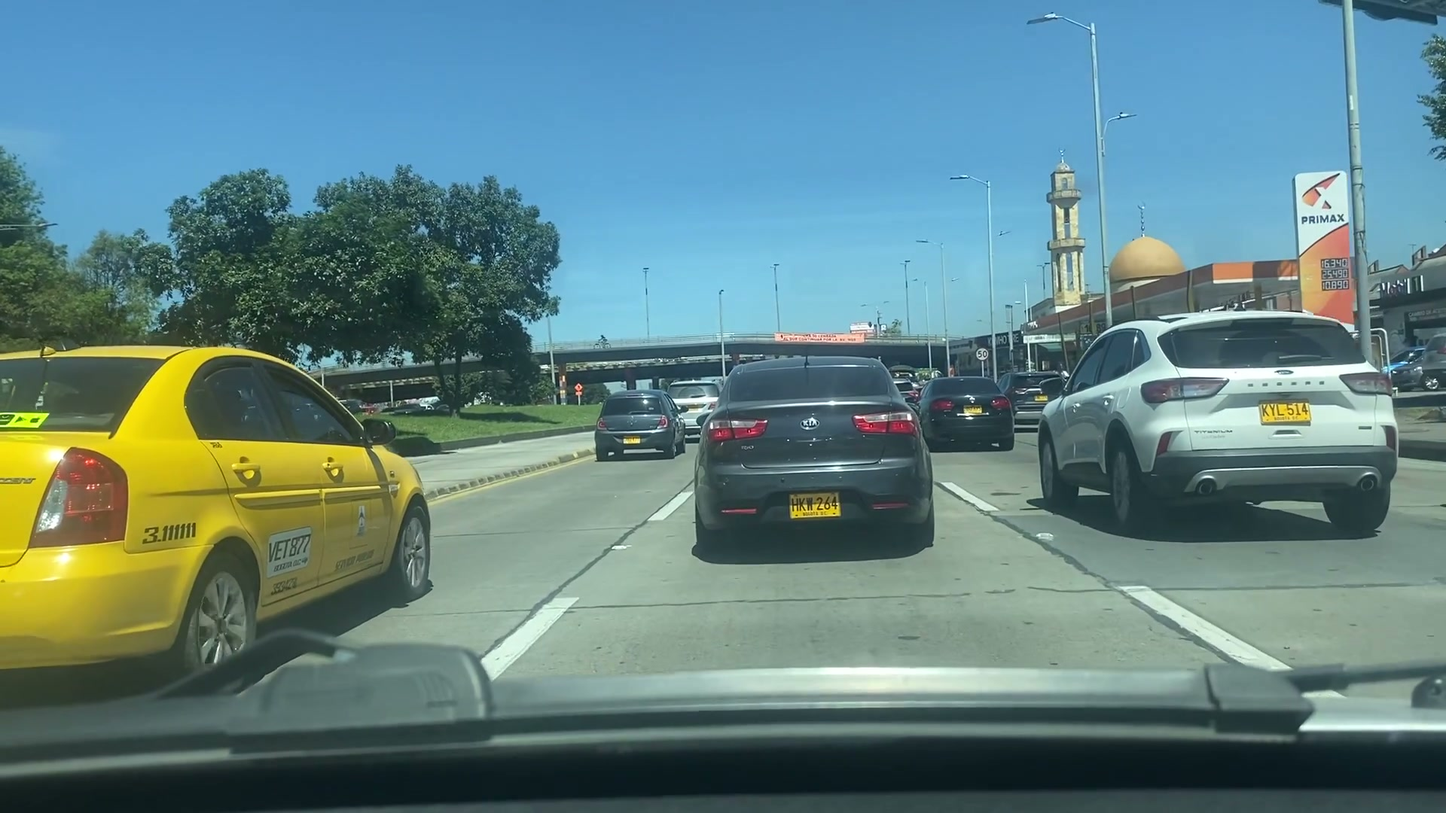car: (0, 349, 434, 678), (1036, 308, 1404, 533), (690, 361, 939, 547), (911, 378, 1018, 450), (589, 392, 687, 461), (994, 368, 1070, 429), (667, 377, 722, 433)
